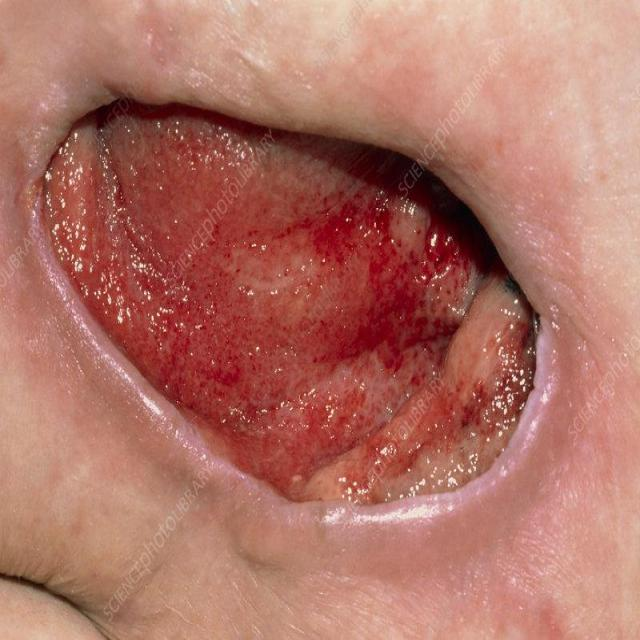stage-4: (25, 101, 555, 502)
